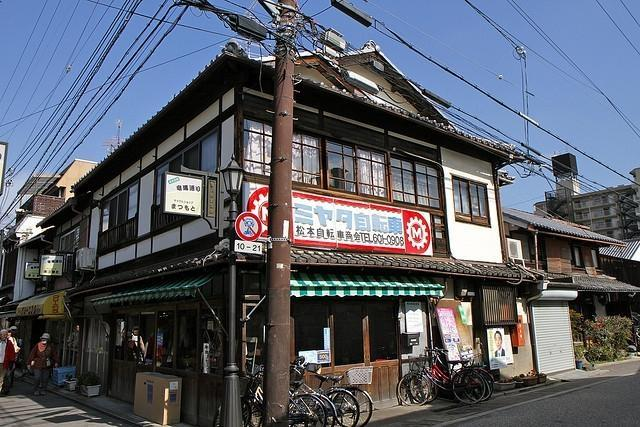bicycle: (294, 359, 360, 427), (428, 352, 494, 402), (290, 380, 336, 427), (336, 374, 372, 422), (290, 396, 328, 427)
